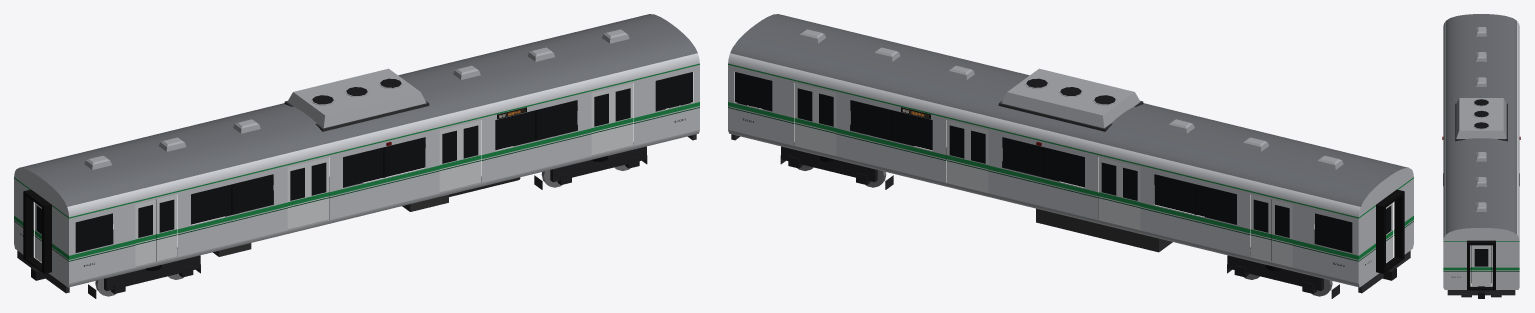
Rendered from r122_M_mid.glb.
3 renders of one model, left to right at view 1: azimuth 30°, elevation 25°; view 2: azimuth 150°, elevation 25°; view 3: azimuth 270°, elevation 25°, orthographic. The views are drawn at different scales.
Visible parts, largest first — view 1: body_shell, mid_sides, opt_ac, mid_roof_under, mid_end_R, roof_vents, door_R1r, door_R2f, door_R3r, door_R3f, door_R4f, door_R1f (+2 smaller); view 2: body_shell, mid_sides, mid_roof_under, opt_ac, mid_end_R, roof_vents, door_L2f, door_L1r, door_L3r, door_L3f, door_L4f, door_L1f (+2 smaller); view 3: body_shell, opt_ac, gw_door_F, roof_vents, mid_end_F, mid_roof_under.
Part boxes in pixels (x1,y1,x2,y2): body_shell: [14, 14, 699, 287]; mid_sides: [75, 72, 692, 266]; opt_ac: [284, 68, 429, 131]; mid_roof_under: [17, 109, 696, 296]; mid_end_R: [20, 189, 51, 273]; roof_vents: [84, 29, 629, 169]; door_R1r: [591, 88, 612, 155]; door_R2f: [460, 120, 481, 187]; door_R3r: [287, 162, 308, 229]; door_R3f: [308, 157, 329, 224]; door_R4f: [156, 194, 177, 261]; door_R1f: [612, 83, 633, 150]; body_shell: [728, 14, 1413, 287]; mid_sides: [735, 72, 1352, 266]; mid_roof_under: [731, 109, 1410, 296]; opt_ac: [998, 68, 1143, 131]; mid_end_R: [1365, 189, 1404, 273]; roof_vents: [798, 29, 1343, 169]; door_L2f: [946, 120, 967, 187]; door_L1r: [815, 88, 836, 155]; door_L3r: [1119, 162, 1140, 229]; door_L3f: [1098, 157, 1119, 224]; door_L4f: [1250, 194, 1271, 261]; door_L1f: [794, 83, 815, 150]; body_shell: [1443, 14, 1519, 289]; opt_ac: [1455, 98, 1507, 141]; gw_door_F: [1471, 245, 1491, 286]; roof_vents: [1476, 27, 1486, 211]; mid_end_F: [1452, 240, 1495, 290]; mid_roof_under: [1447, 286, 1515, 298].
Size of the model in its own units: 20 by 3.94 by 3.03.
Materials: 20 (2 with a texture image).
